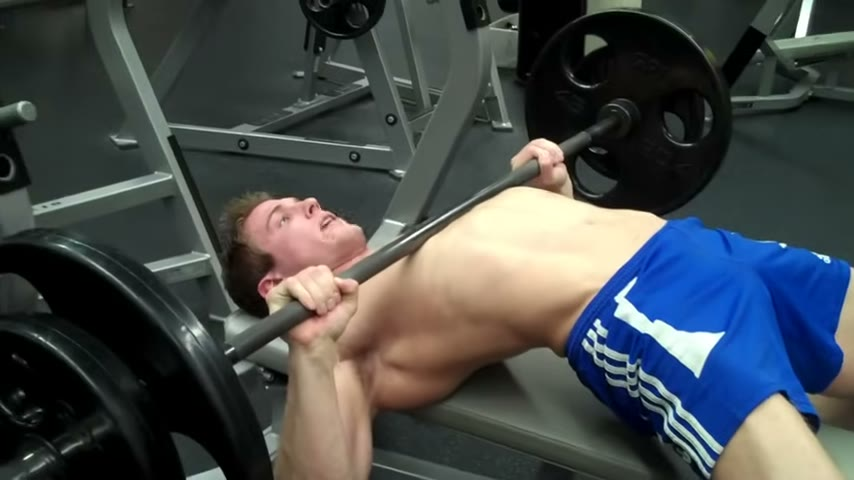barbell_plate_side: (211, 6, 405, 477), (272, 7, 412, 474)
